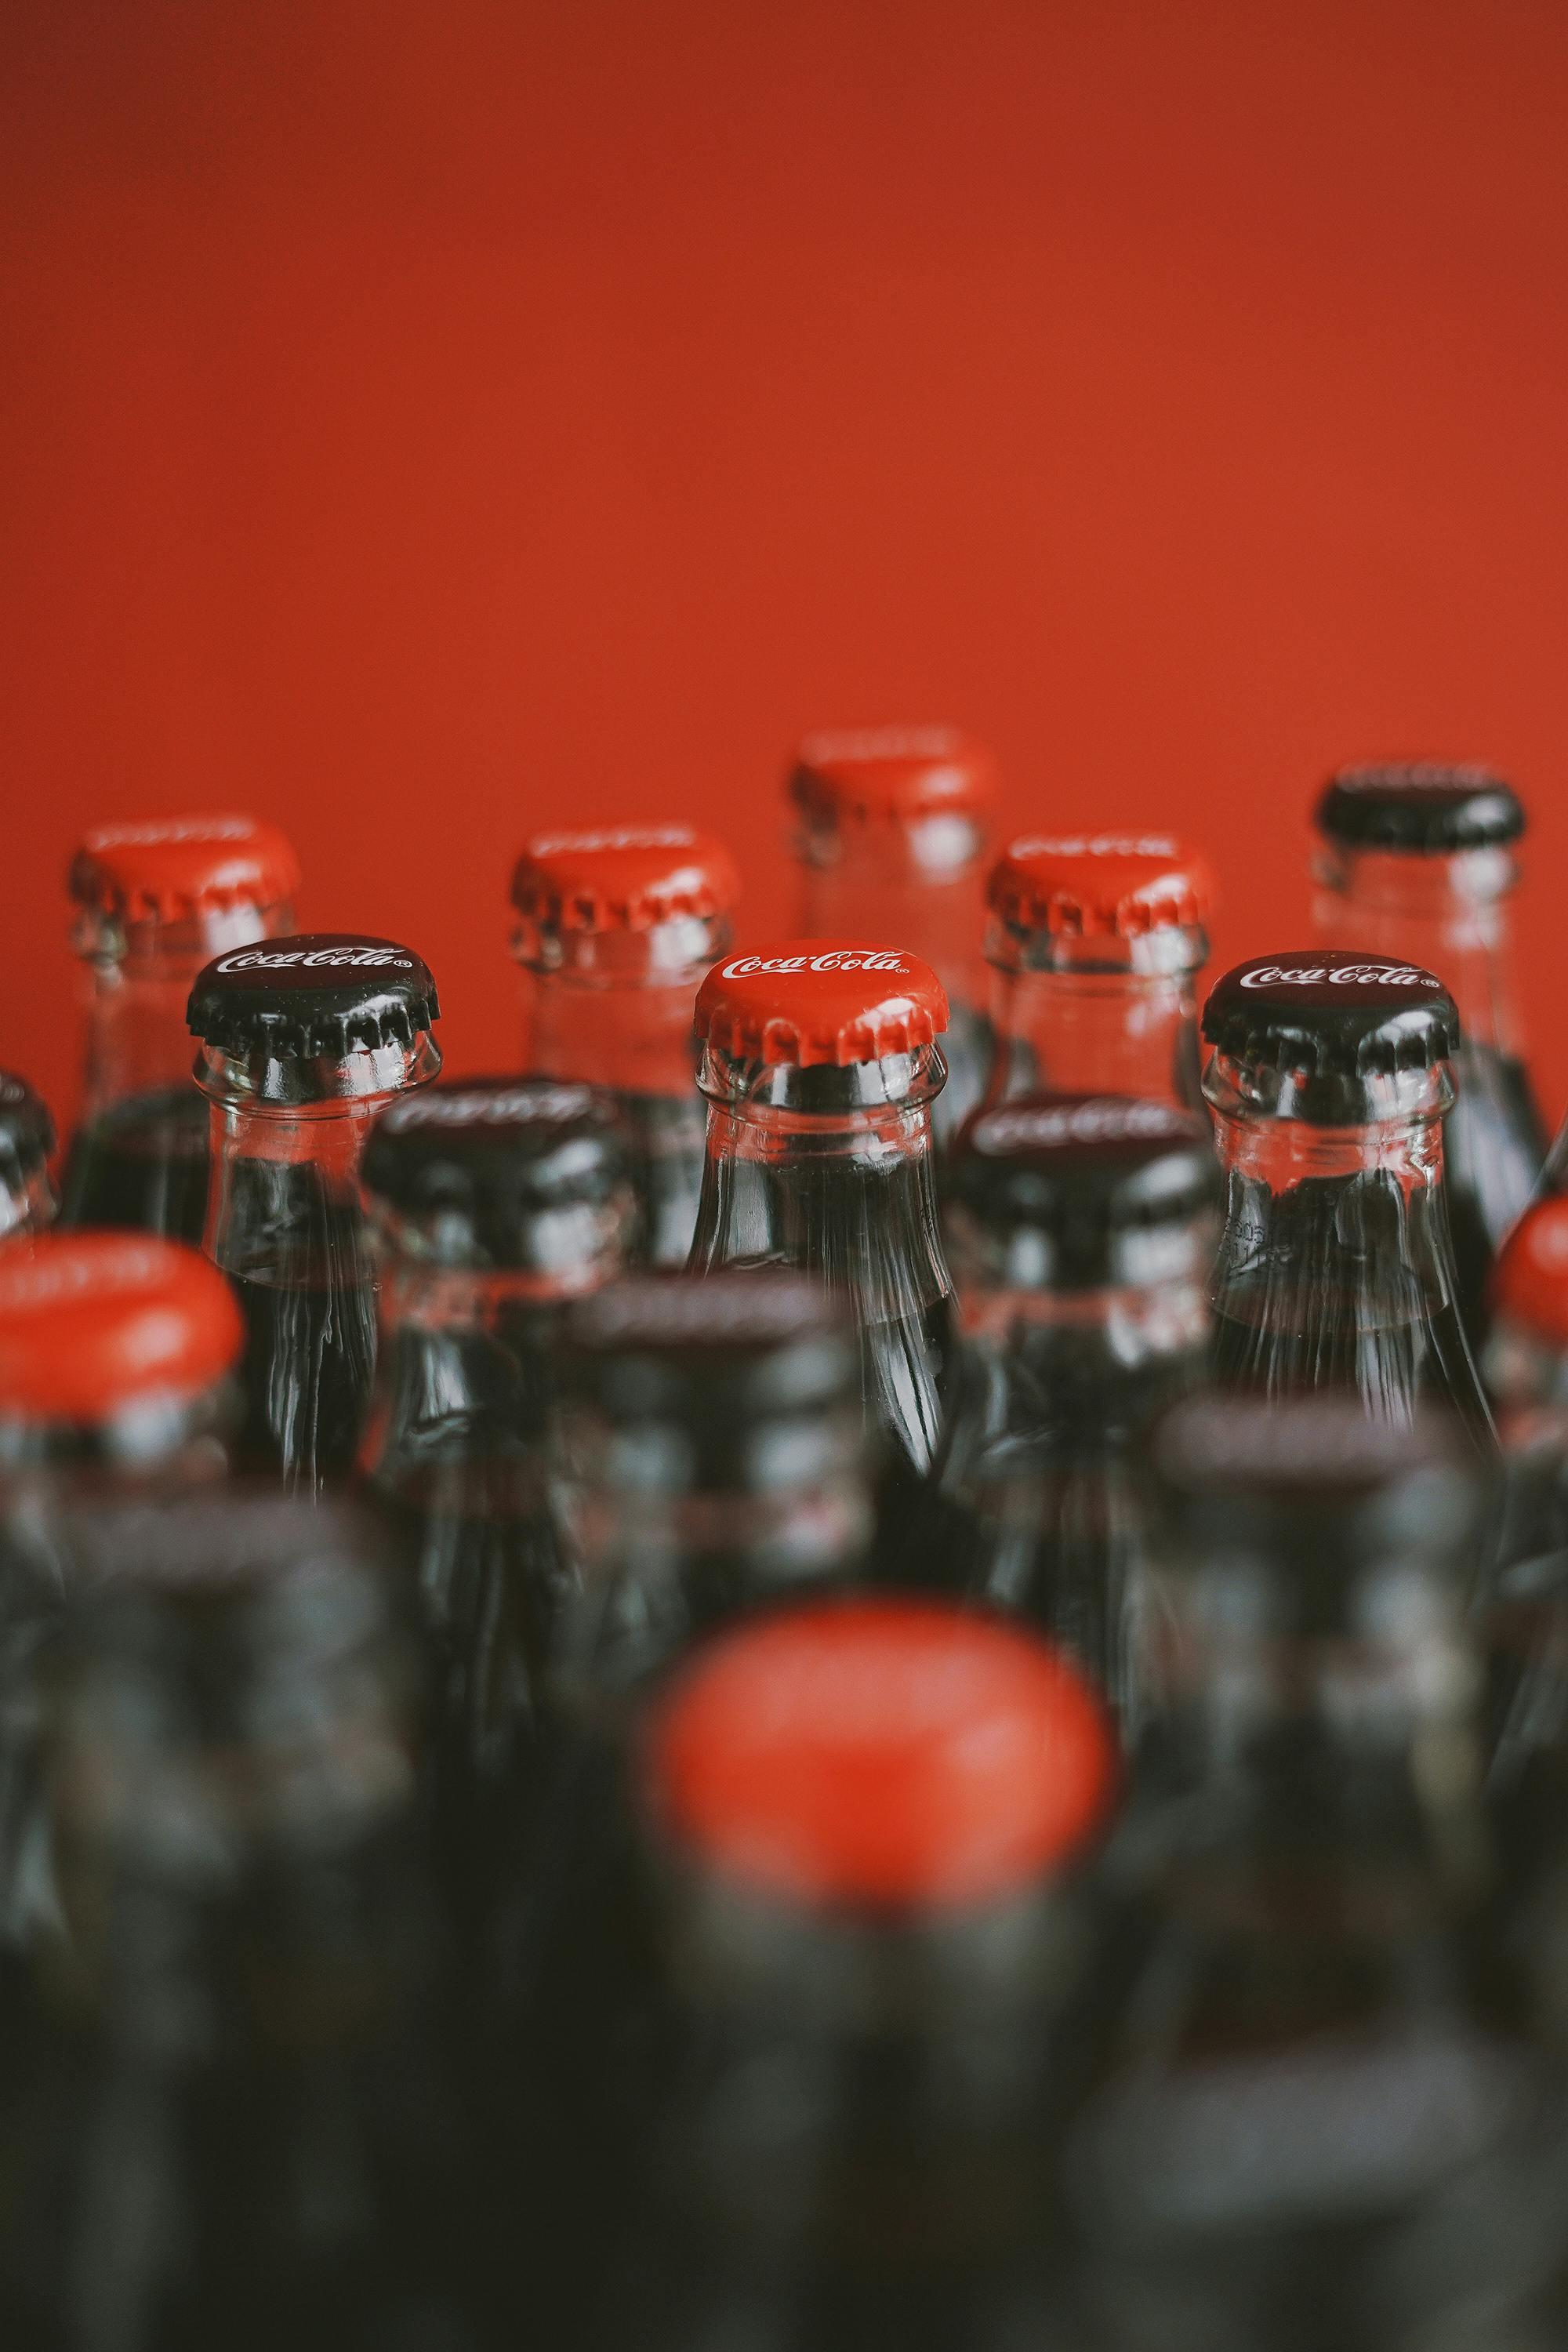glass: (9, 1276, 471, 2317), (1061, 1395, 1535, 2327), (602, 1580, 1137, 2345), (348, 1085, 660, 1699), (931, 1102, 1228, 1732), (672, 941, 982, 1537), (1283, 763, 1554, 1346), (179, 933, 450, 1496), (500, 824, 746, 1255), (59, 816, 305, 1221), (782, 726, 1012, 1122), (976, 831, 1221, 1150)
